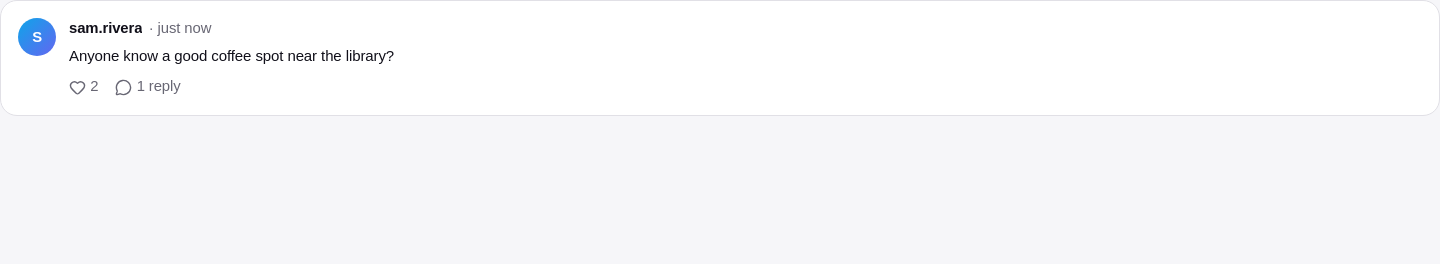
Test: BanterCard › shows the Safety Guardian notice when a reply is refused
Click the button "1 reply" at coordinates (148, 87), box [115,76,180,98]
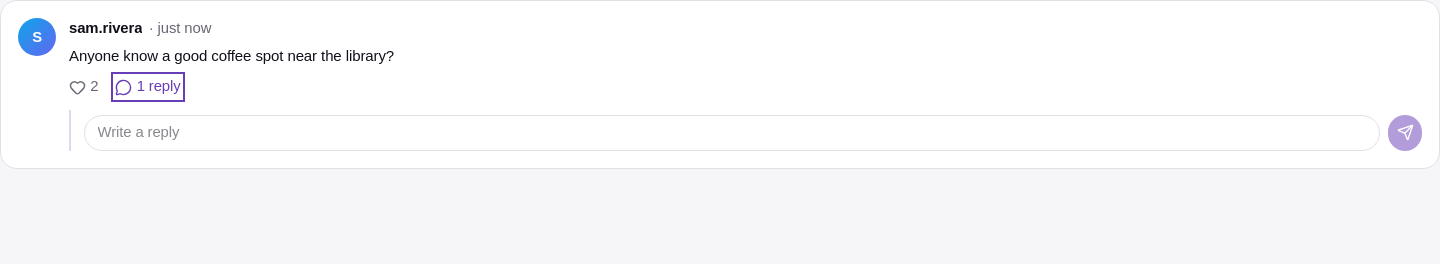
Type "rude reply" into the field labelled "Write a reply" at coordinates (732, 133), box [84,115,1380,151]
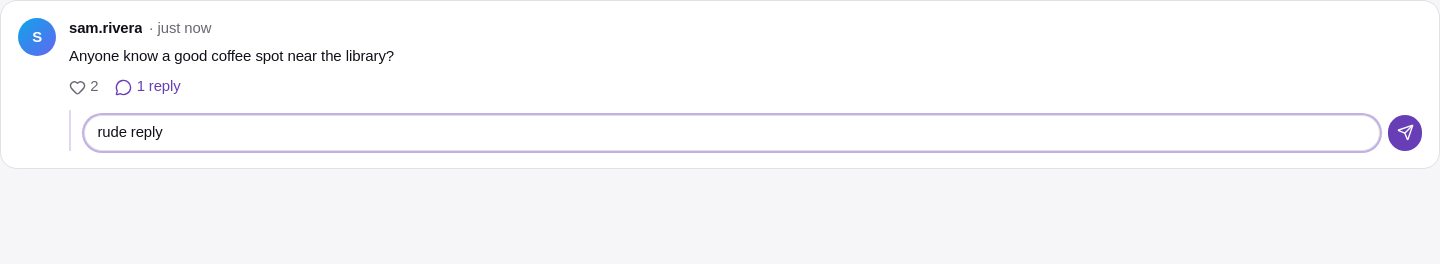
Click the button named "Send reply" at coordinates (1405, 133), box [1388,115,1422,151]
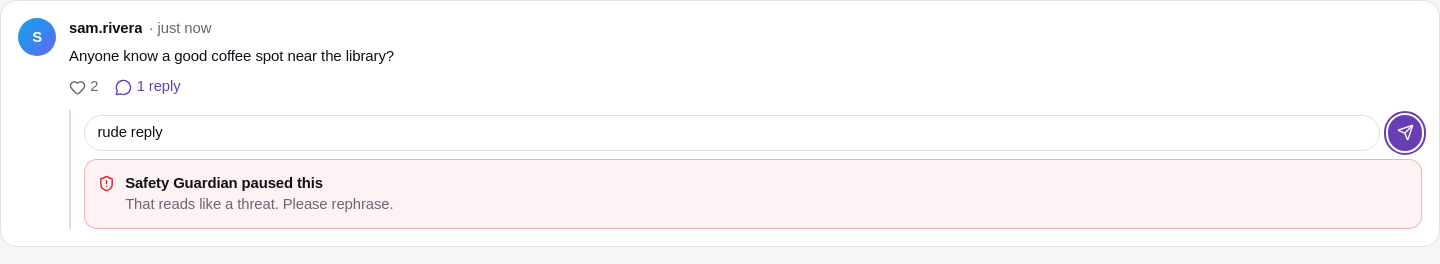
Check: the text "Safety Guardian paused this" is shown, box [125,175,323,191]
